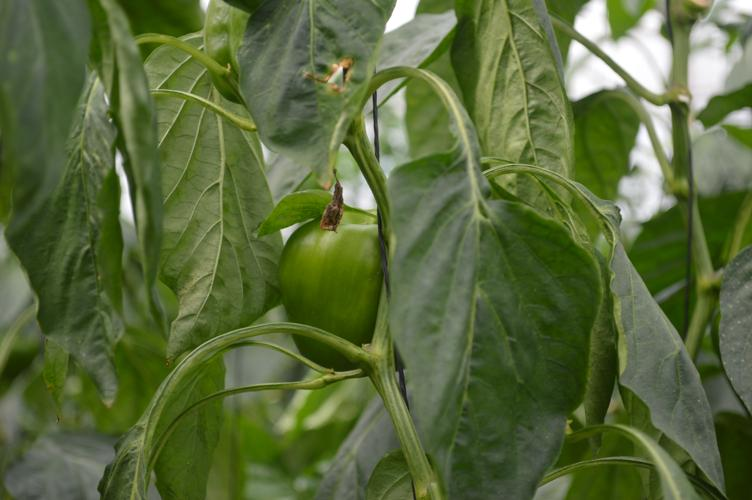BellPepper: (279, 220, 380, 371)
